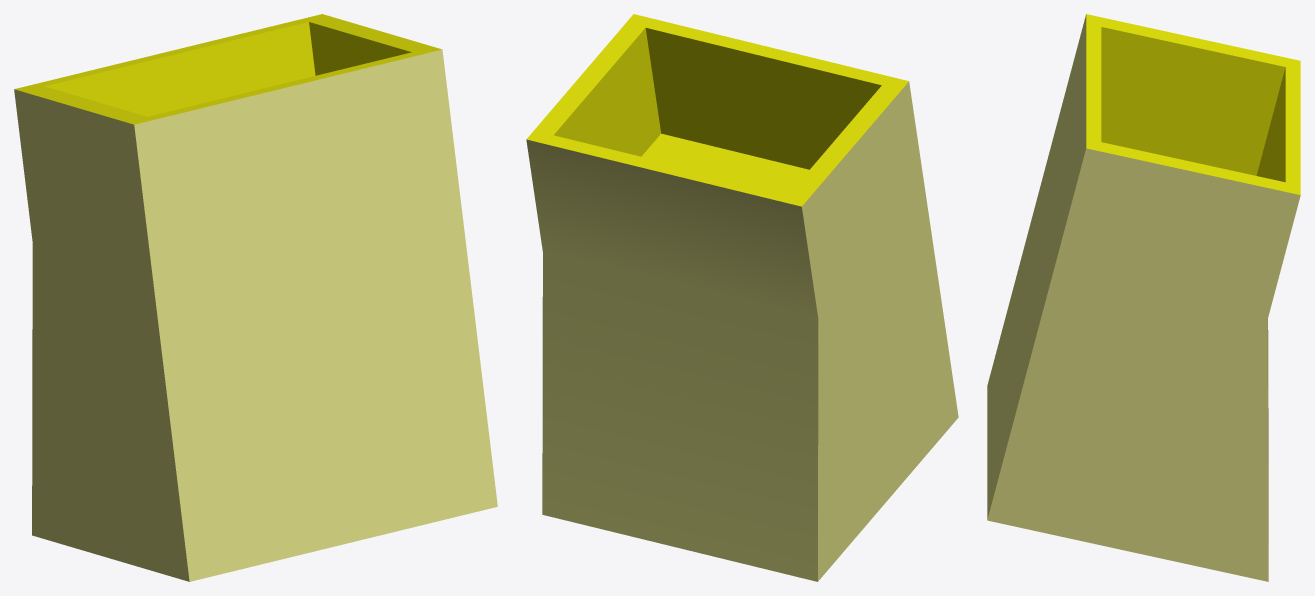
File: sari_kutu.fbx
The picture shows the model from 3 angles, left to right: view 1: azimuth 30°, elevation 25°; view 2: azimuth 150°, elevation 25°; view 3: azimuth 270°, elevation 25°; orthographic projection. The views are drawn at different scales.
Visible parts, largest first — view 1: pCube1; view 2: pCube1; view 3: pCube1.
Part boxes in pixels (x1=…): pCube1: x1=14, y1=14, x2=497, y2=581; pCube1: x1=526, y1=14, x2=958, y2=581; pCube1: x1=987, y1=14, x2=1300, y2=581.
Bounding box in the file's own units: 4.33 × 6.51 × 4.27.
